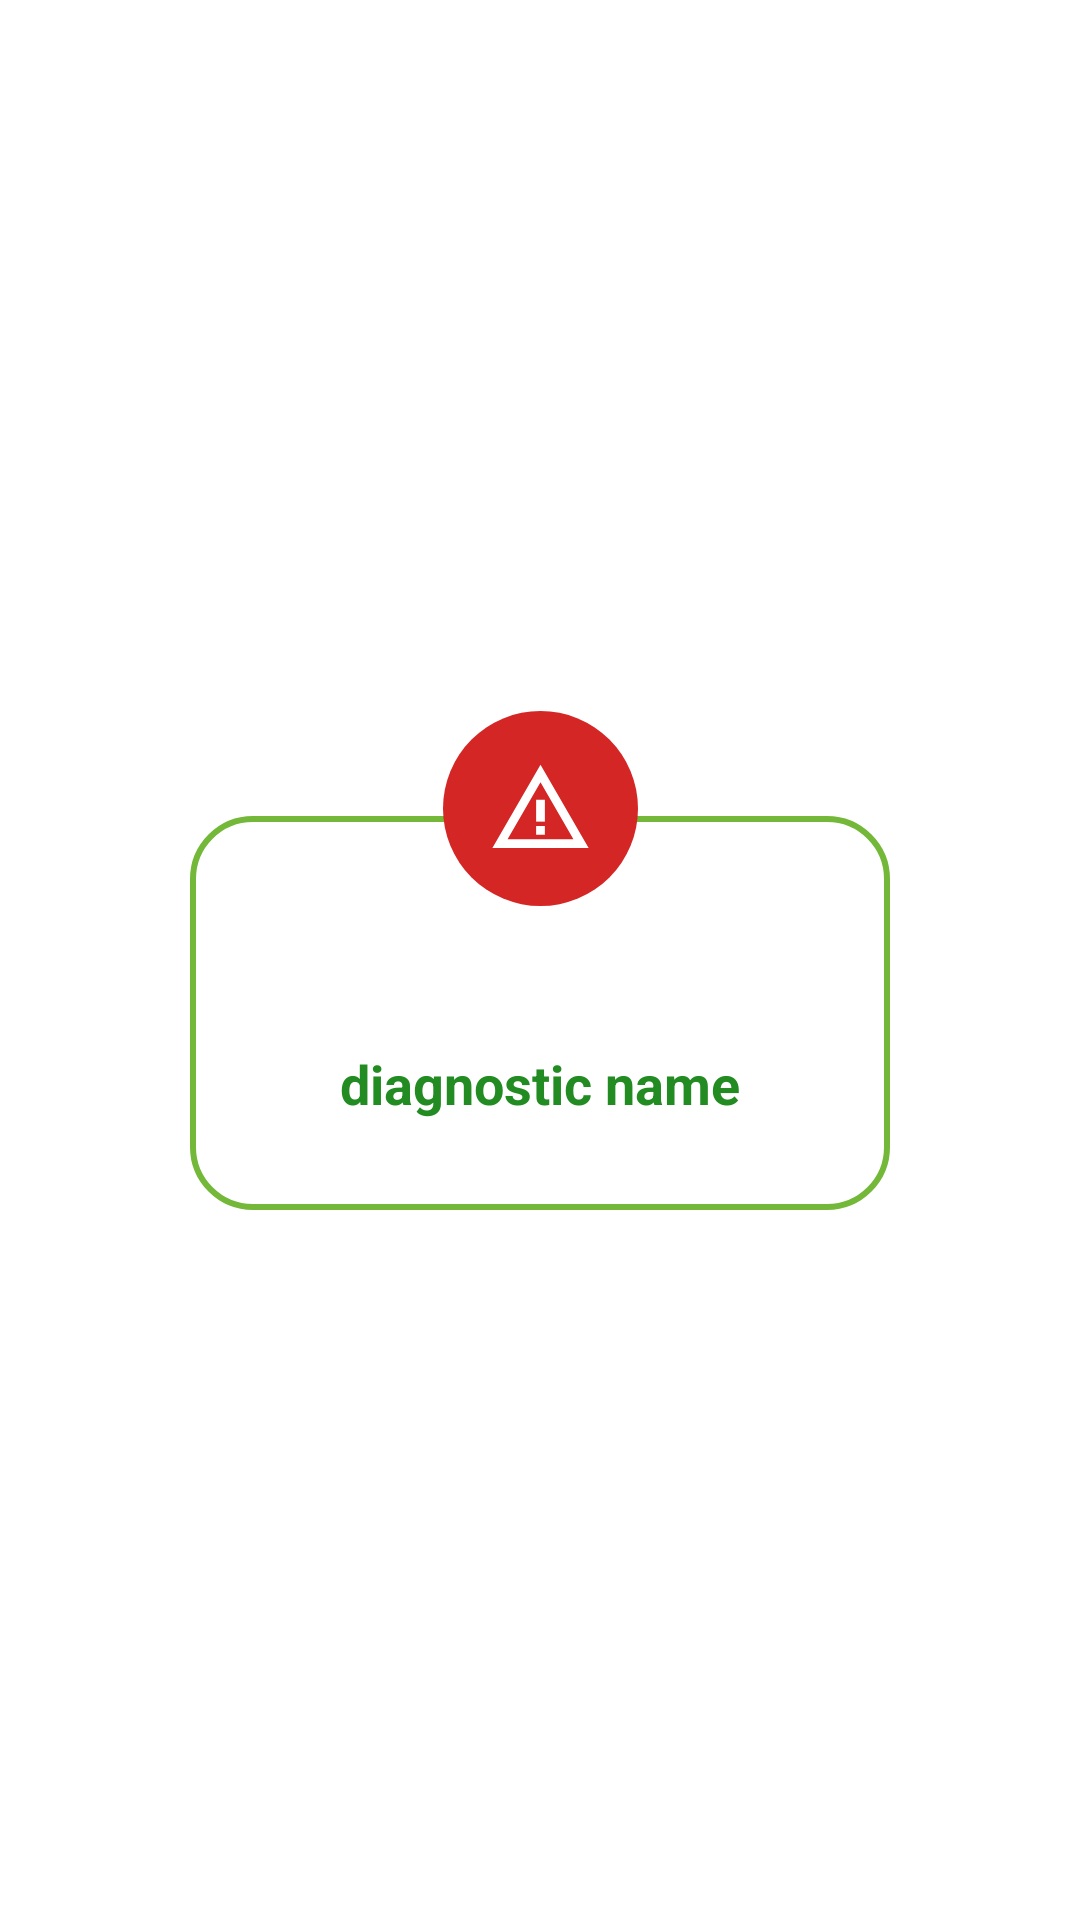

Icon click points for this 1080x1920 phone screenshot, format point (x, y):
warning: point (540, 808)
